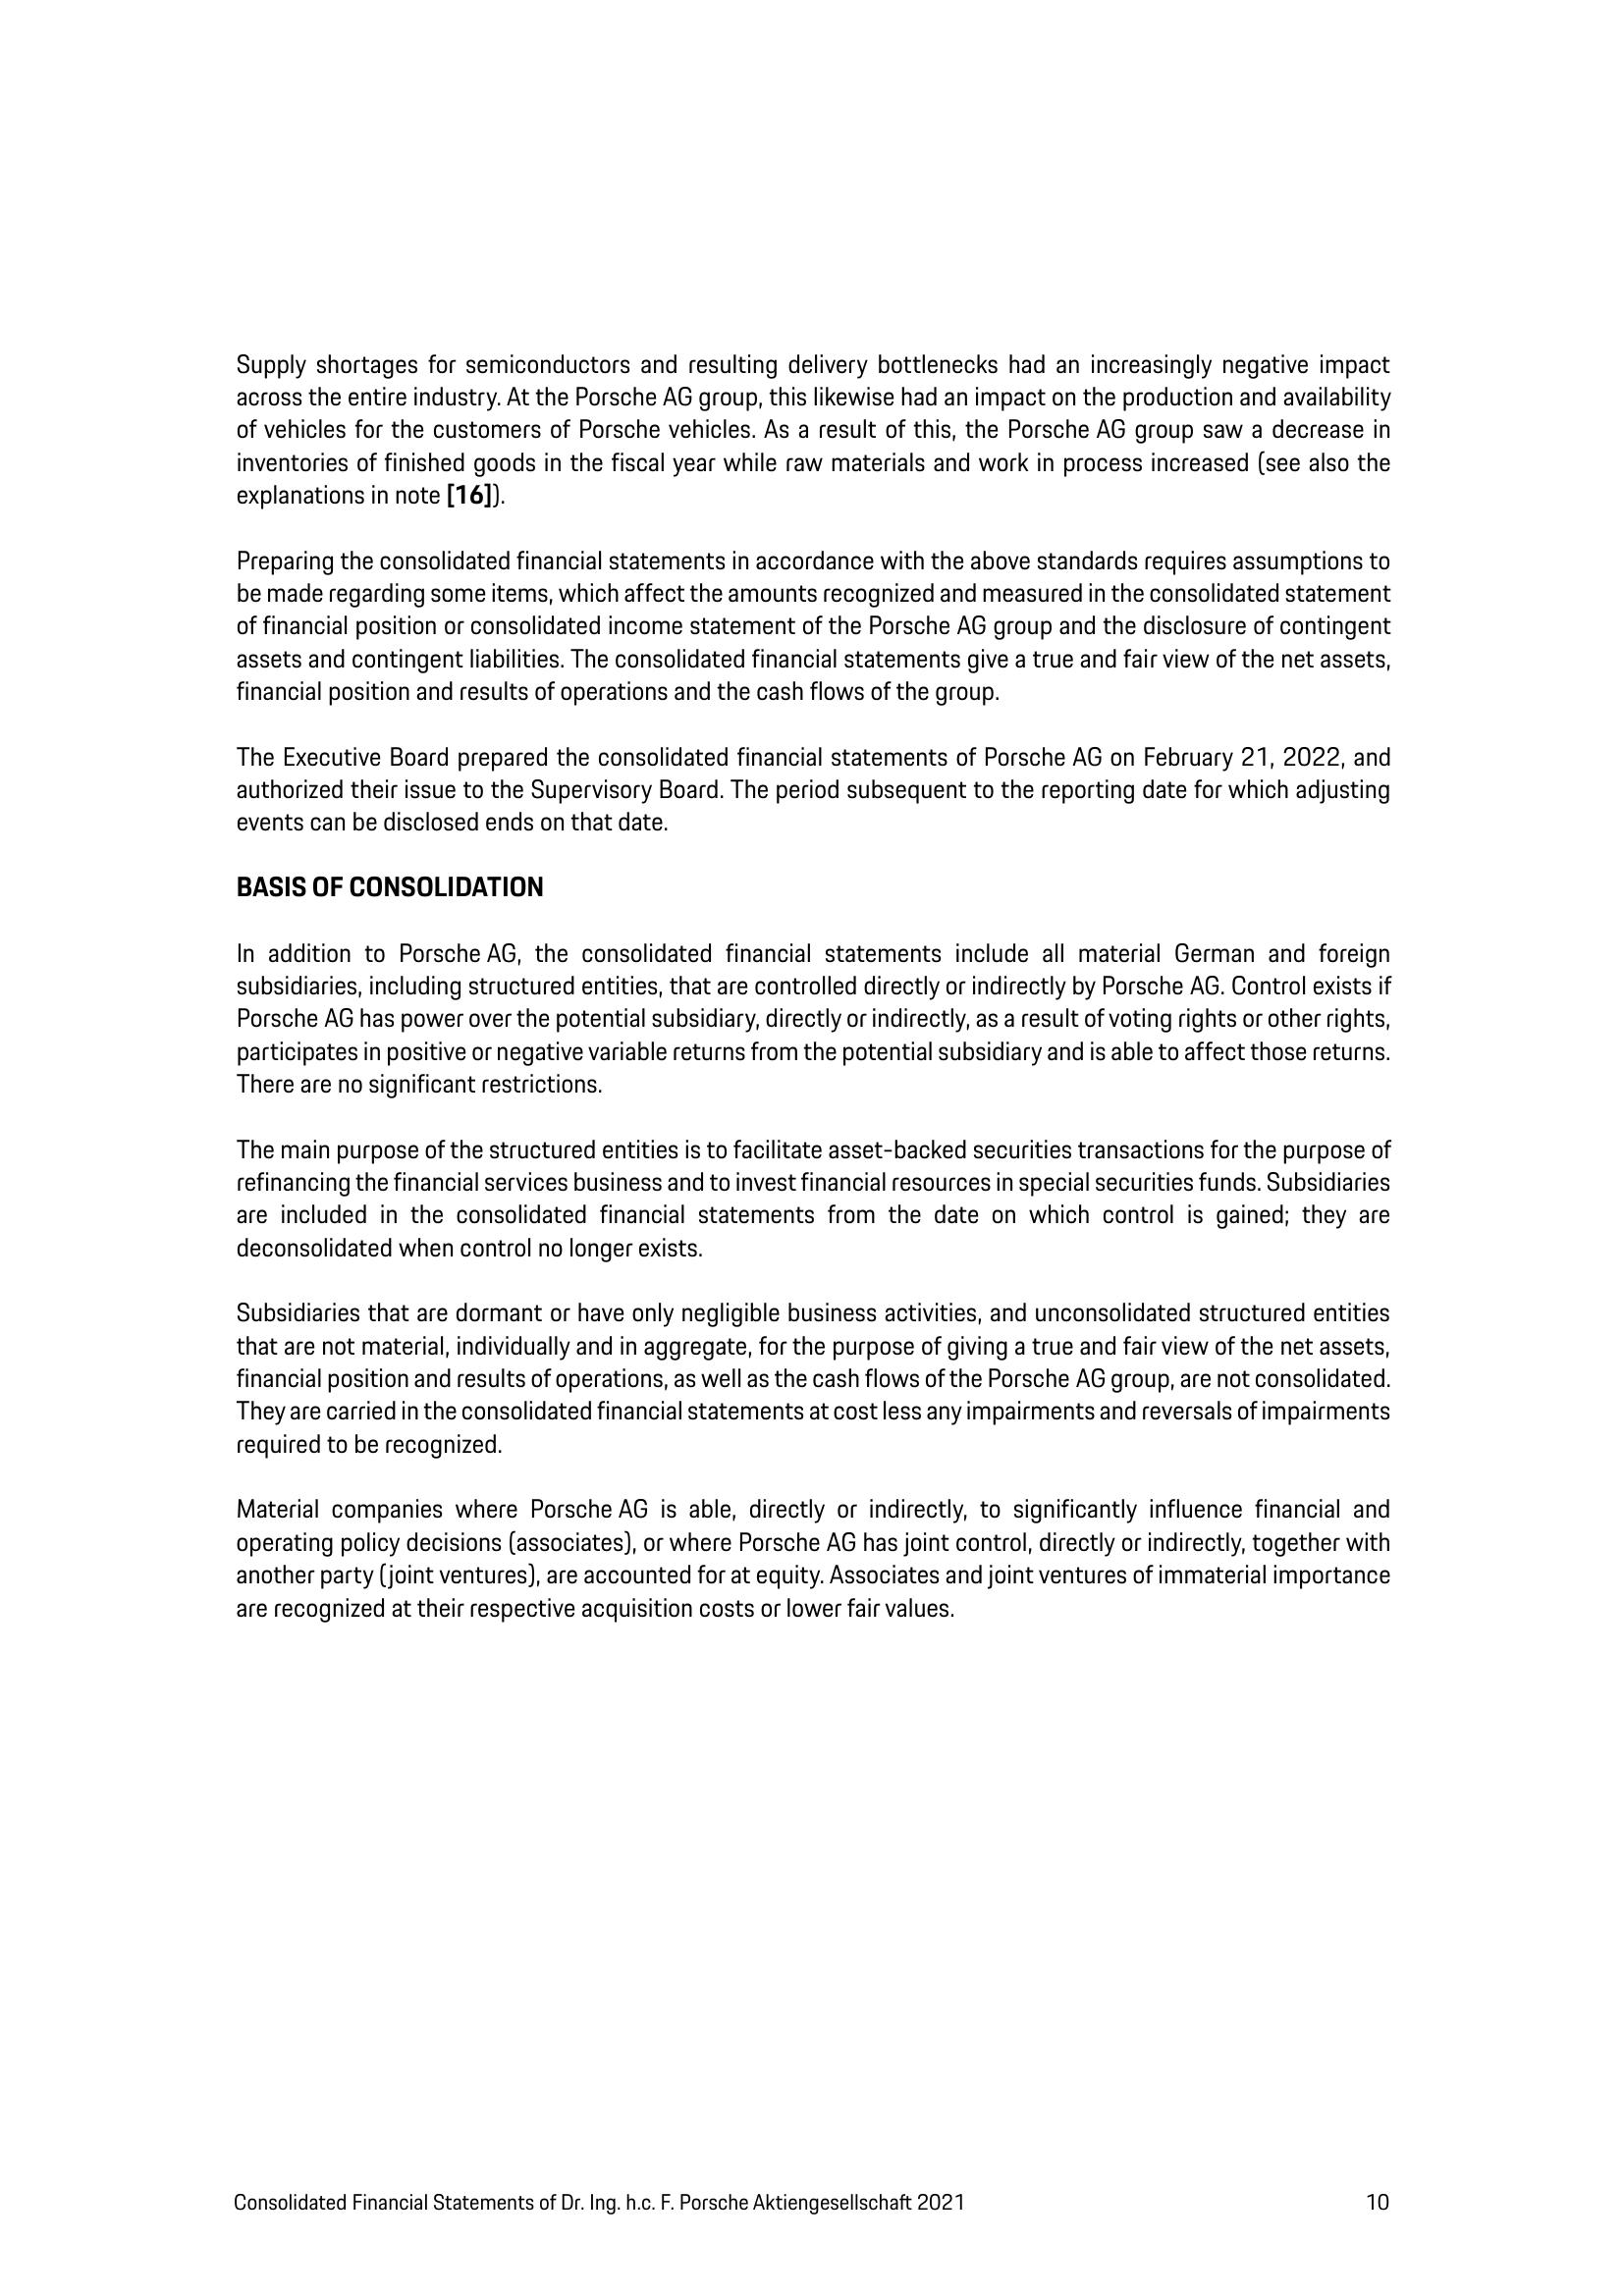Footer: (2, 2103, 1624, 2296)
Header: (0, 0, 1624, 202)
